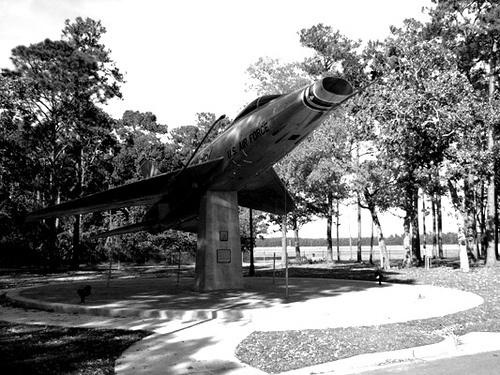aeroplane: (26, 75, 355, 238)
